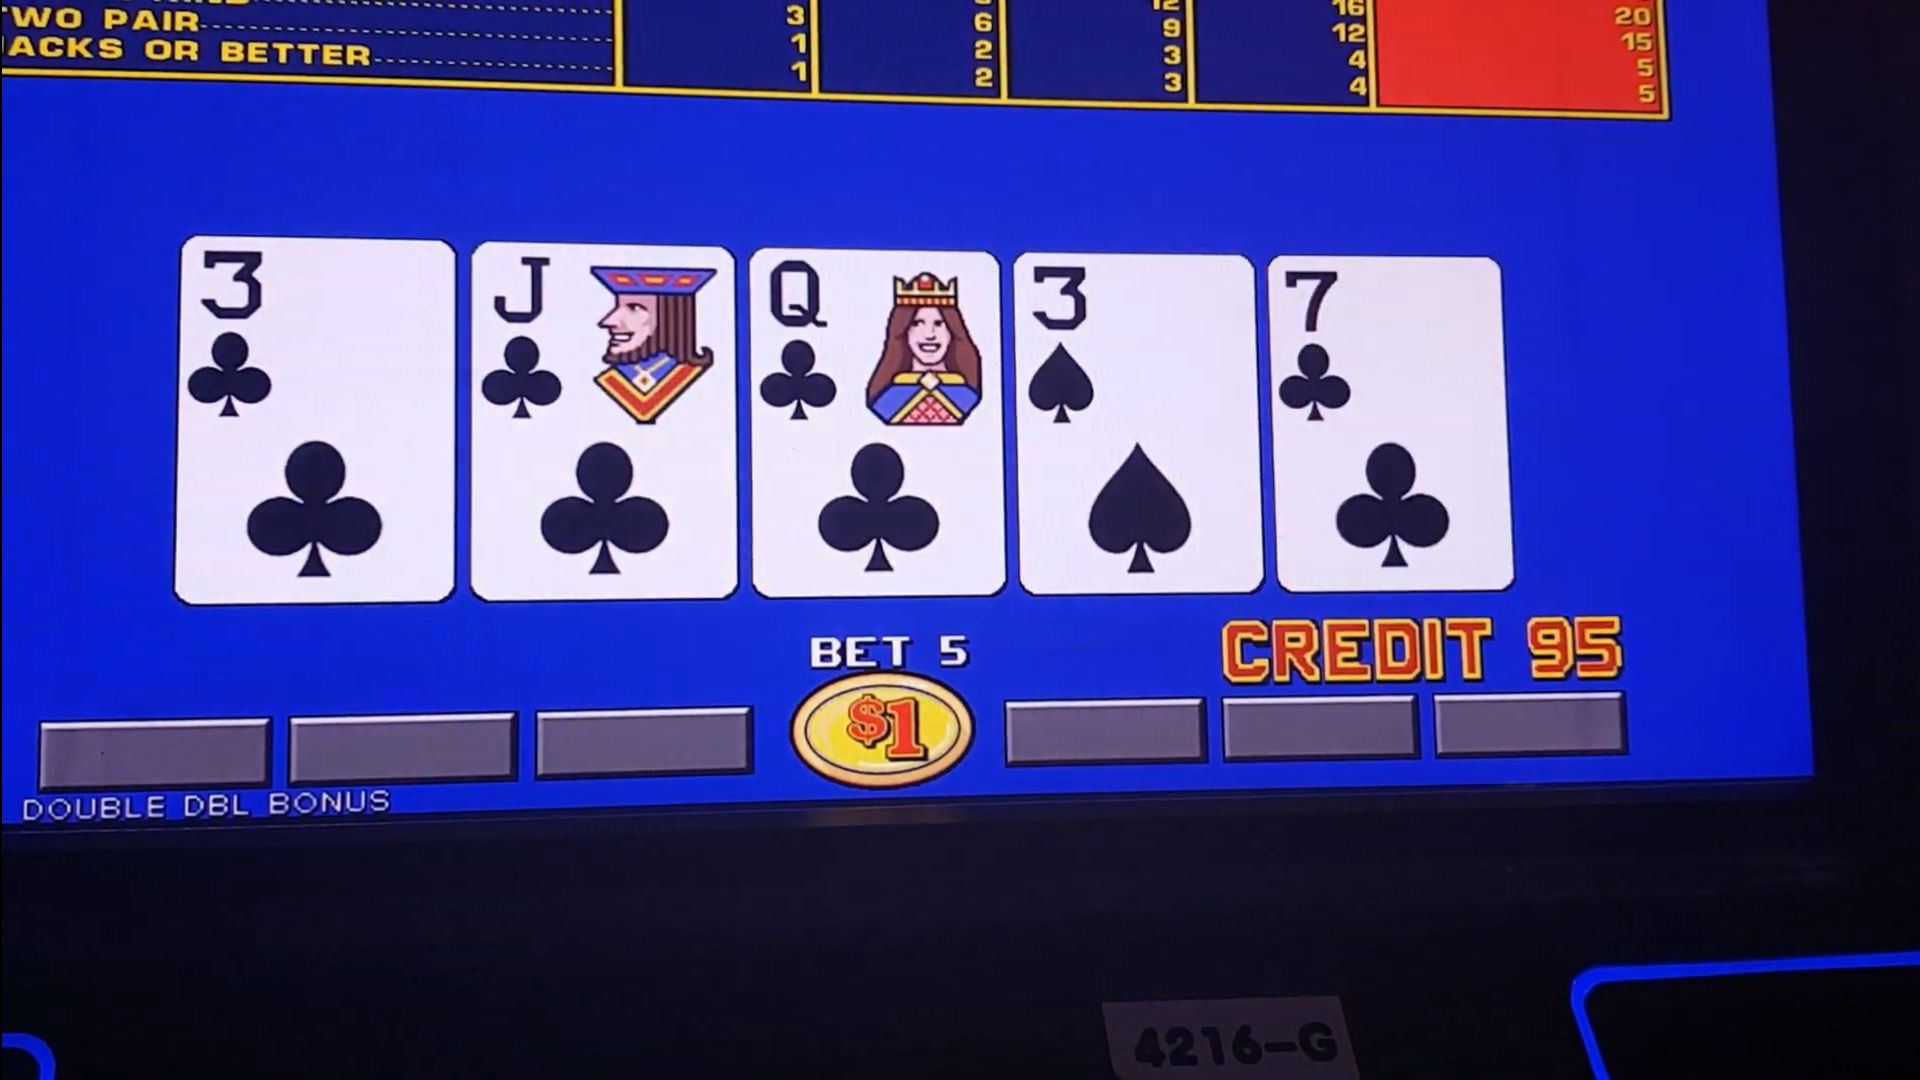C3: (185, 239, 448, 421)
C7: (1276, 261, 1499, 440)
CJ: (473, 248, 733, 427)
CQ: (756, 255, 998, 426)
S3: (1021, 253, 1251, 439)
